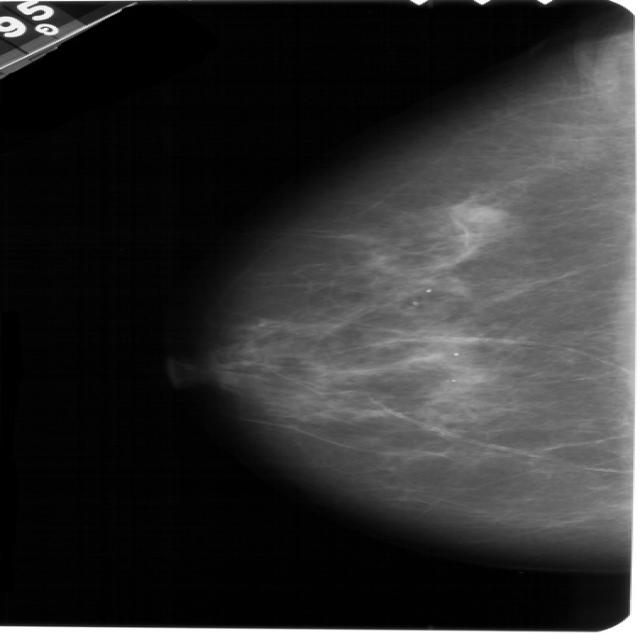tumour: (450, 200, 504, 223)
